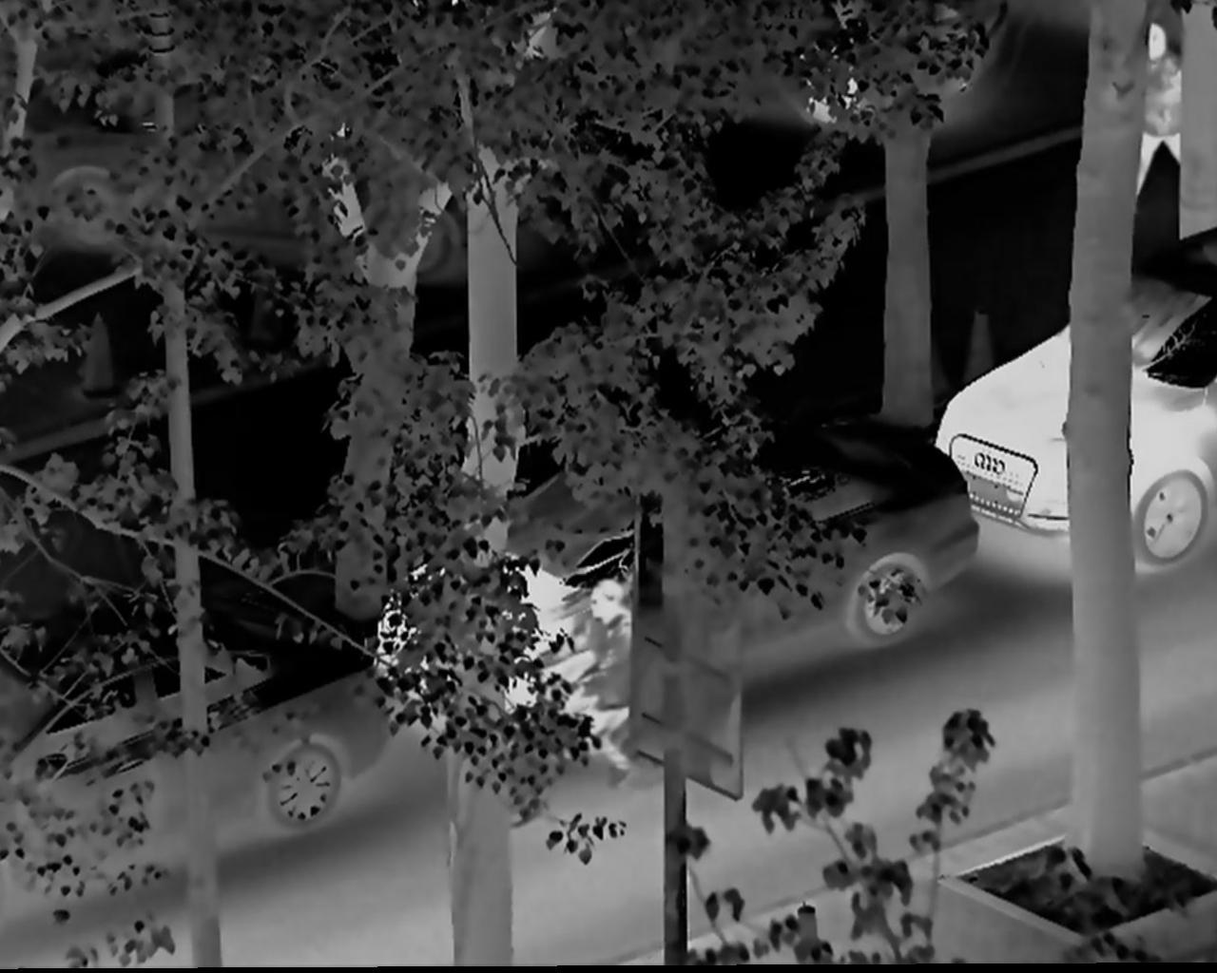person: (555, 580, 637, 788), (1134, 16, 1189, 210)
